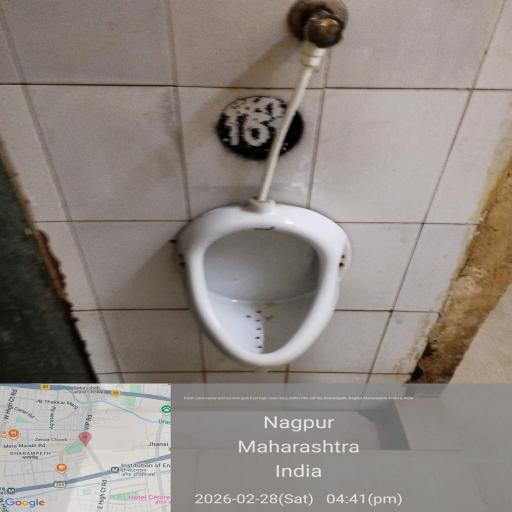clean_floor: (4, 8, 506, 157)
clean_urinal: (173, 169, 368, 395)
partial_dirty_floor: (42, 328, 502, 512)
